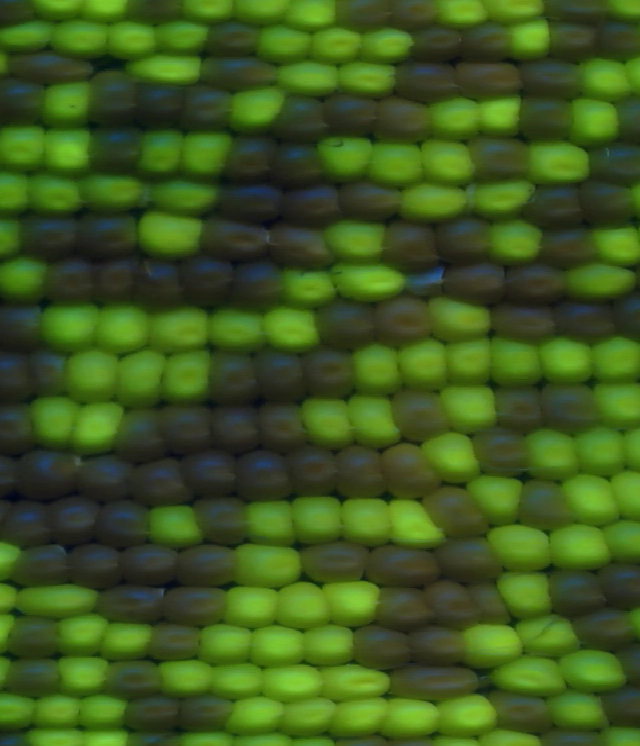fluorescent: (132, 206, 207, 263), (483, 520, 560, 575), (392, 179, 476, 227), (223, 77, 285, 141), (32, 302, 109, 353), (66, 398, 132, 457), (232, 542, 305, 594), (537, 522, 614, 571), (565, 424, 634, 478), (27, 390, 82, 457), (10, 581, 106, 619), (461, 173, 536, 221), (343, 393, 404, 452), (562, 258, 640, 304), (518, 428, 581, 484), (332, 260, 410, 305), (424, 93, 487, 148), (507, 614, 584, 659), (205, 301, 269, 355), (147, 304, 212, 357), (483, 654, 567, 695), (108, 349, 167, 407), (386, 497, 446, 554), (89, 301, 156, 352), (465, 470, 527, 525), (119, 54, 204, 94), (547, 688, 616, 737), (323, 215, 389, 266), (491, 569, 557, 620), (556, 646, 626, 694), (571, 55, 638, 105), (523, 136, 590, 186), (559, 94, 621, 148), (239, 493, 297, 550), (276, 577, 334, 634), (64, 350, 125, 404), (379, 694, 447, 742), (369, 135, 426, 192), (298, 390, 355, 447), (134, 126, 188, 186), (314, 133, 374, 187), (220, 585, 286, 634), (535, 335, 602, 383), (556, 472, 623, 520), (415, 133, 478, 184), (193, 622, 266, 666), (484, 338, 542, 392), (429, 296, 495, 343), (328, 693, 395, 739), (320, 661, 390, 705), (335, 489, 388, 547), (290, 491, 345, 546), (266, 302, 323, 355), (40, 125, 98, 177), (38, 77, 98, 127), (321, 578, 381, 628), (81, 169, 146, 215), (440, 379, 495, 433), (275, 58, 347, 99), (219, 694, 289, 735), (0, 120, 54, 173), (351, 340, 403, 395), (53, 654, 116, 699), (144, 498, 204, 545), (161, 346, 210, 403), (247, 621, 309, 666), (423, 436, 480, 484), (147, 179, 225, 214), (260, 666, 328, 706), (24, 171, 83, 217), (176, 128, 229, 179), (99, 19, 162, 61), (359, 22, 419, 66), (461, 620, 521, 664), (340, 60, 404, 101), (253, 24, 314, 67), (437, 690, 495, 735), (205, 664, 267, 706), (487, 221, 545, 265), (585, 223, 640, 269), (397, 339, 448, 388), (588, 379, 640, 427), (100, 618, 157, 661), (56, 616, 113, 659), (591, 336, 640, 386), (285, 264, 337, 311), (304, 25, 365, 65), (279, 700, 341, 739), (477, 92, 523, 144), (151, 16, 215, 53), (301, 623, 356, 666), (0, 253, 47, 303), (160, 660, 215, 700), (507, 14, 551, 63), (56, 22, 112, 60), (82, 694, 132, 733), (29, 695, 86, 729), (229, 1, 293, 31), (0, 22, 58, 53), (596, 523, 640, 563), (0, 217, 36, 265), (607, 468, 640, 520), (286, 1, 337, 34), (0, 691, 34, 737), (0, 171, 31, 218), (440, 1, 488, 31), (186, 1, 236, 29), (484, 1, 546, 22), (71, 726, 131, 746), (478, 730, 551, 746), (80, 1, 131, 23), (34, 1, 82, 20), (32, 729, 76, 746)
nonfluorescent: (312, 295, 383, 356), (369, 92, 437, 153), (15, 445, 88, 499), (362, 538, 445, 585), (179, 251, 242, 312), (84, 66, 139, 132), (203, 344, 261, 406), (134, 257, 198, 313), (253, 342, 308, 407), (372, 291, 442, 342), (381, 663, 482, 698), (437, 261, 517, 305), (514, 91, 576, 147), (367, 579, 434, 630), (159, 580, 233, 626), (296, 538, 368, 585), (420, 485, 486, 536), (234, 445, 295, 500), (82, 126, 151, 174), (583, 177, 640, 235), (178, 82, 236, 139), (21, 211, 87, 261), (331, 443, 391, 498), (349, 624, 415, 674), (192, 53, 276, 92), (547, 562, 610, 614), (198, 217, 272, 261), (133, 458, 198, 508), (230, 258, 288, 314), (277, 93, 338, 146), (321, 97, 388, 145), (470, 430, 533, 481), (551, 293, 619, 340), (129, 77, 185, 134), (385, 215, 444, 269), (484, 687, 556, 731), (453, 56, 523, 101), (268, 224, 338, 269), (487, 297, 557, 342), (465, 136, 532, 183), (436, 530, 503, 577), (423, 572, 480, 627), (516, 476, 575, 529), (61, 541, 126, 589), (92, 582, 172, 621), (384, 439, 438, 496), (217, 179, 283, 225), (568, 606, 637, 650), (78, 210, 141, 258), (197, 491, 249, 549), (96, 494, 155, 545), (332, 179, 409, 218), (430, 219, 495, 265), (0, 76, 54, 131), (289, 441, 341, 498), (390, 56, 464, 96), (160, 403, 214, 457), (111, 407, 164, 462), (185, 451, 244, 500), (3, 49, 96, 80), (408, 620, 469, 667), (4, 615, 70, 658), (0, 304, 52, 358), (541, 381, 597, 431), (506, 263, 571, 306), (210, 403, 263, 455), (277, 182, 344, 223), (116, 538, 177, 583), (9, 540, 71, 584), (391, 392, 451, 437), (0, 498, 56, 546), (78, 455, 137, 500), (305, 341, 351, 398), (465, 573, 512, 628), (3, 653, 60, 698), (269, 143, 327, 187), (118, 694, 185, 732), (222, 137, 277, 183), (544, 19, 604, 61), (149, 623, 210, 664), (102, 655, 163, 696), (40, 259, 99, 301), (585, 142, 640, 187), (542, 226, 605, 265), (528, 186, 587, 227), (494, 379, 545, 426), (525, 59, 589, 96), (89, 259, 149, 298), (409, 25, 464, 67), (177, 541, 234, 581), (49, 497, 97, 544), (0, 399, 38, 457), (208, 19, 265, 57), (259, 402, 303, 451), (183, 695, 238, 734), (335, 1, 393, 36), (459, 22, 512, 60), (594, 16, 640, 57), (27, 349, 68, 394), (609, 284, 640, 342), (593, 681, 640, 719), (605, 93, 640, 143), (0, 1, 50, 31), (0, 352, 32, 398), (127, 1, 184, 25), (396, 1, 441, 27), (554, 1, 606, 21)
